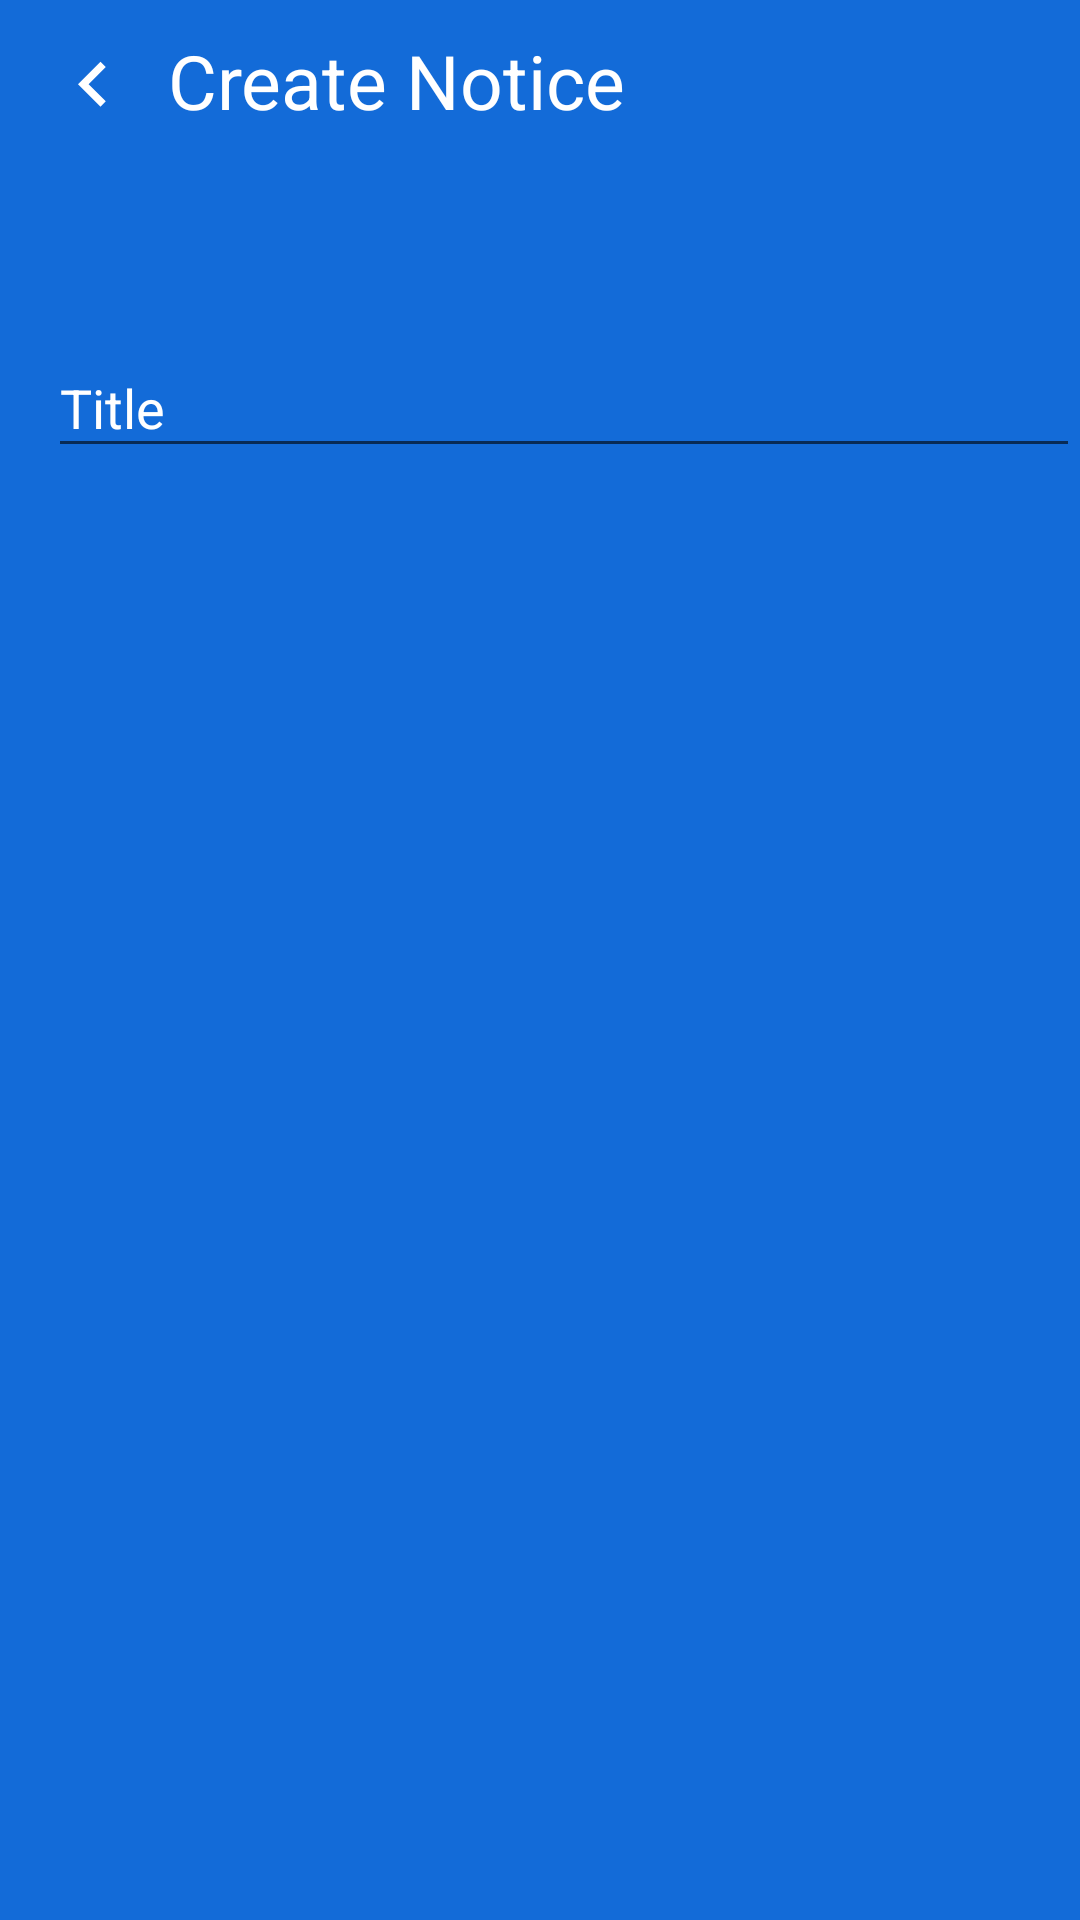

Screen size 1080 × 1920. Icon name, then its box in pixels as (x1, y1, x2, y2):
keyboard arrow left: (78, 62, 106, 107)
